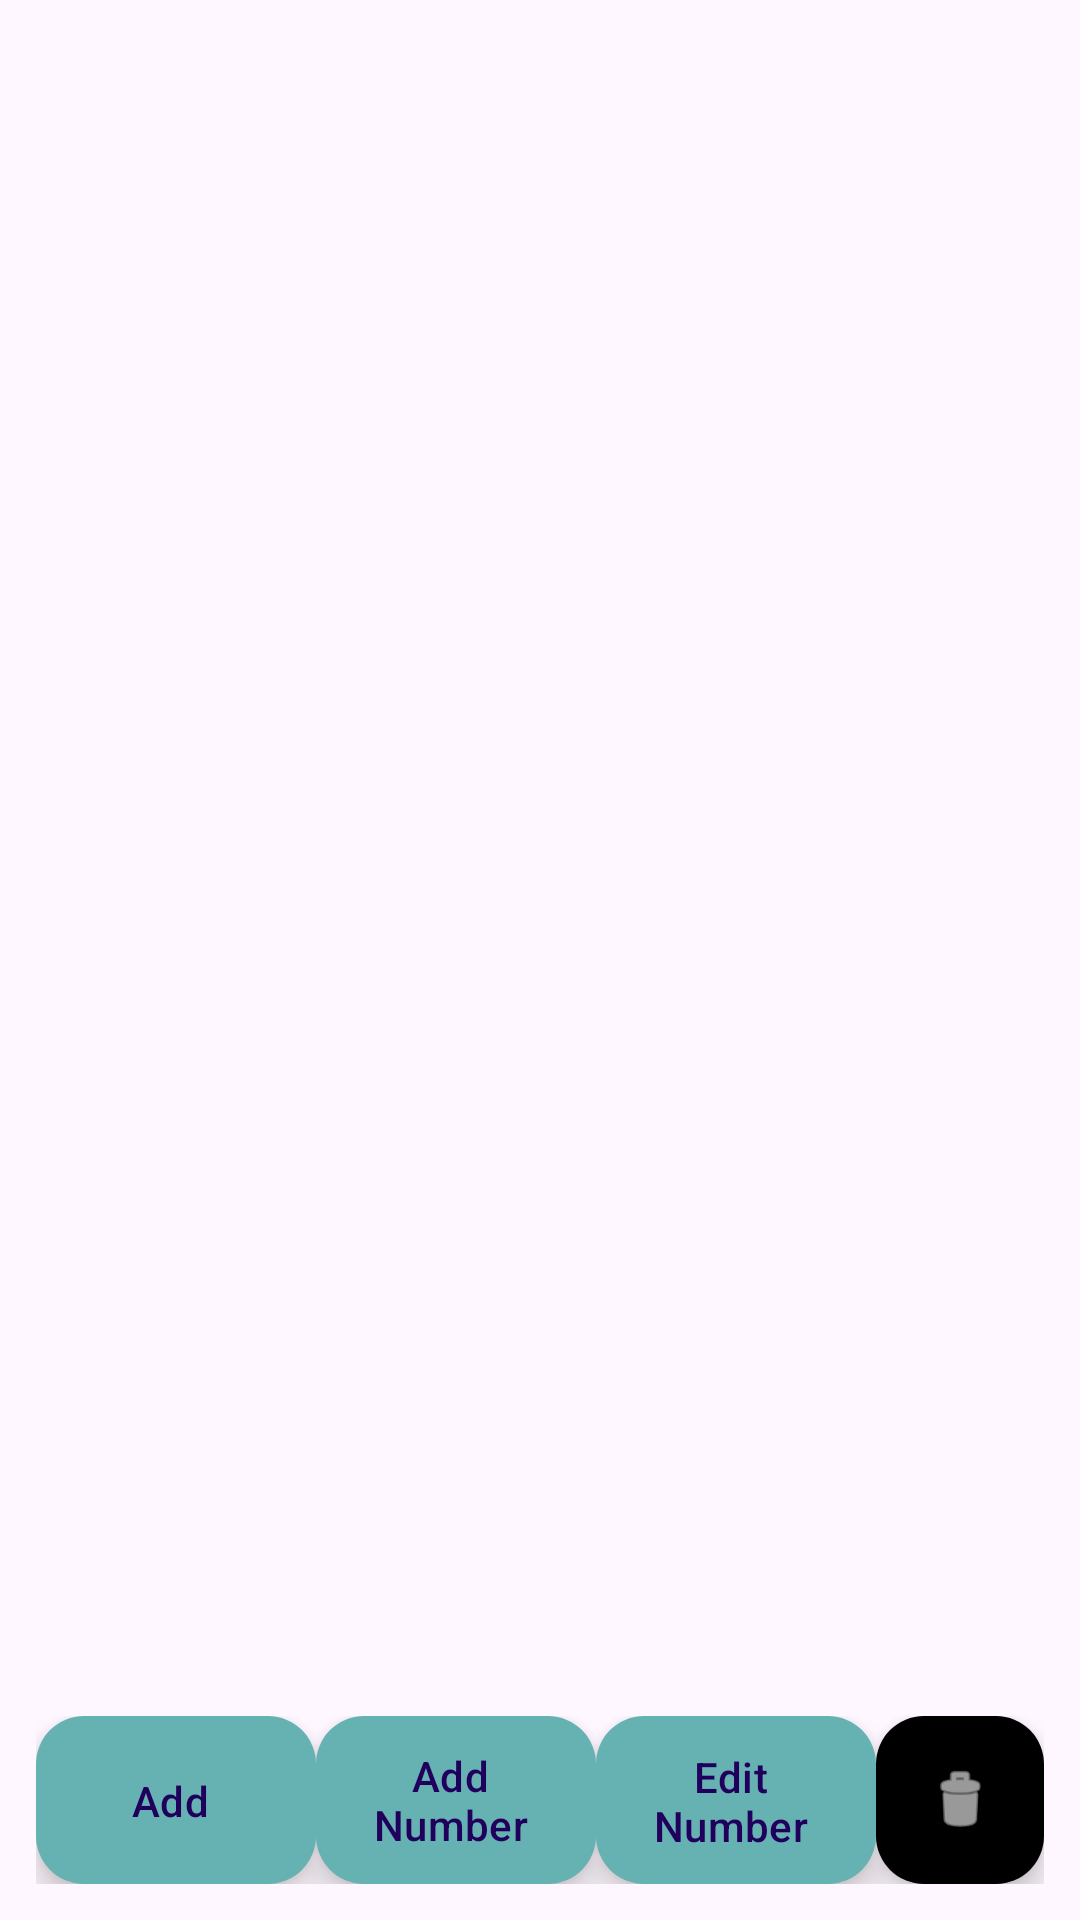

Where icons sit on this 1080x1920 app screen, as (x1,y1,x2,y2):
Clear all: (876,1716,1044,1884)
